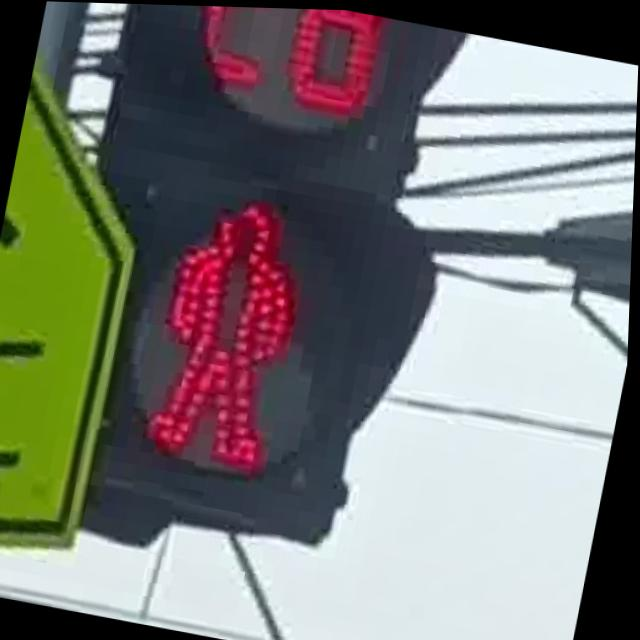red_light: (130, 170, 342, 490)
